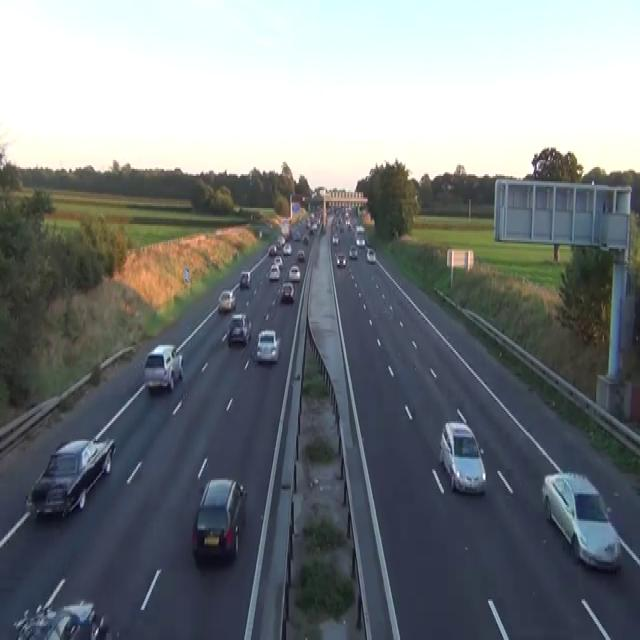Car: (541, 471, 622, 573), (25, 436, 115, 519), (191, 476, 247, 562), (16, 599, 109, 638), (439, 420, 486, 494), (143, 343, 183, 391), (227, 311, 251, 347), (255, 329, 280, 363), (217, 290, 236, 313), (280, 281, 295, 302), (239, 270, 251, 288), (288, 263, 300, 281), (268, 263, 279, 281), (348, 243, 358, 260), (336, 250, 346, 266), (366, 247, 375, 263), (273, 254, 283, 268), (282, 242, 292, 254), (268, 244, 277, 256), (276, 235, 285, 247), (297, 249, 305, 261), (309, 222, 317, 233), (292, 229, 300, 240), (355, 224, 364, 233), (331, 233, 339, 243), (302, 233, 308, 245), (345, 219, 350, 229), (305, 217, 310, 227), (259, 230, 262, 238)
Truck: (355, 224, 365, 247)
